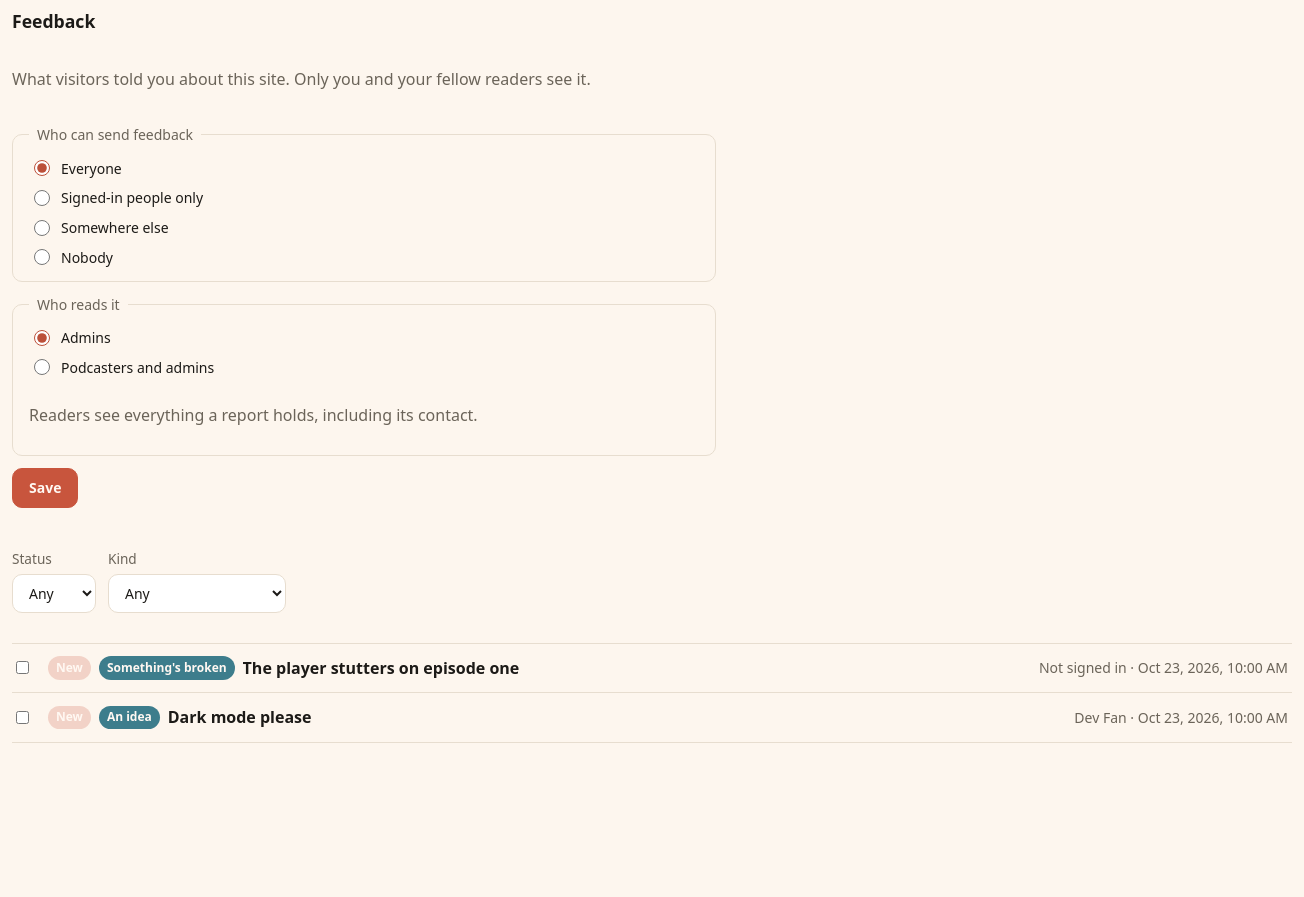
Test: AdminFeedback › lists reports and opens one with its context and contact
The width and height of the screenshot is (1304, 897).
Check: the text "Not signed in" is shown, box 1039,658 -> 1127,677
Click the 2nd button at point(69, 668), box 44,652 -> 1292,684
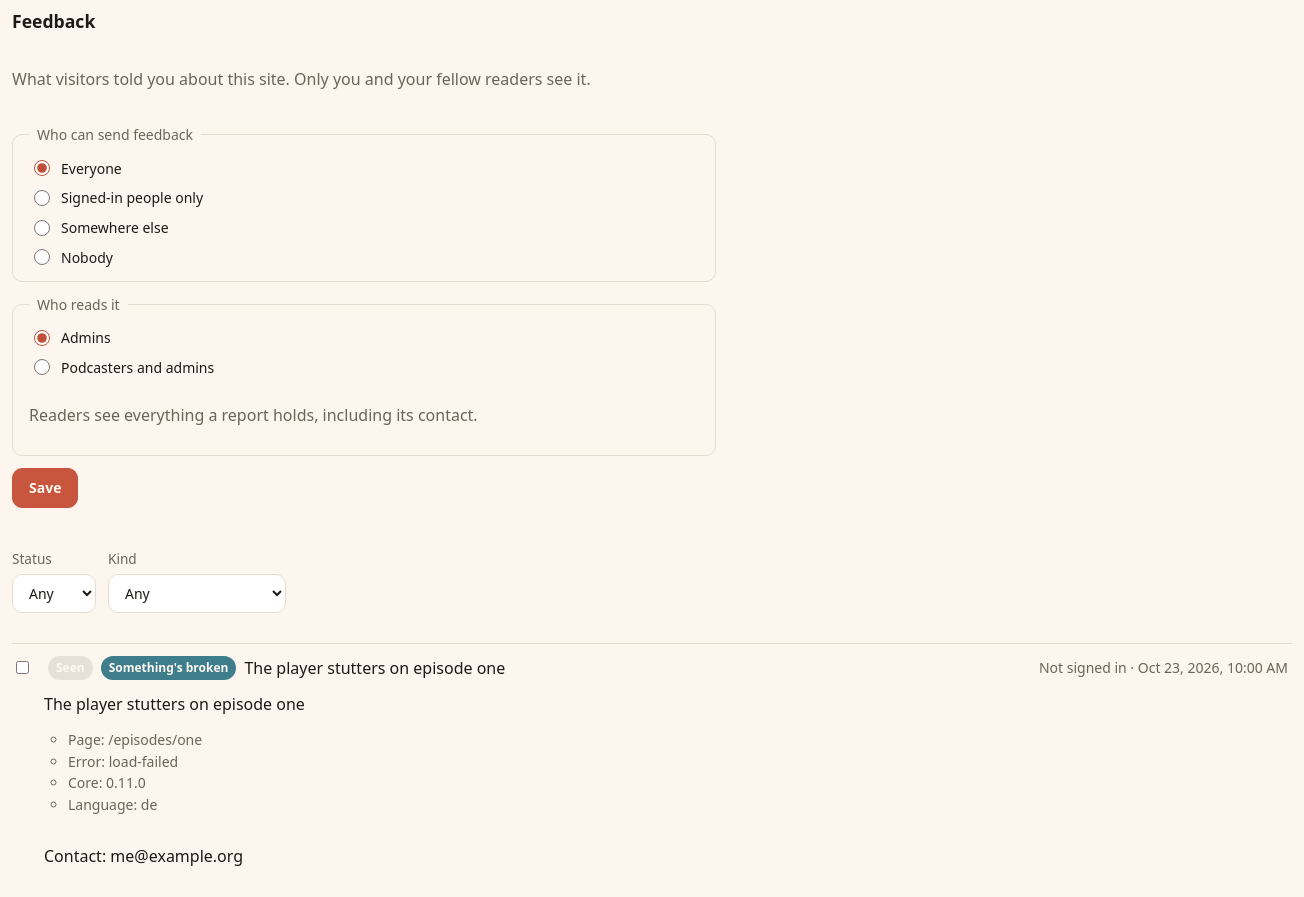
Check: the list item "Page: /episodes/one" is shown, box 68,730 -> 202,749
Check: the text "me@example.org" is shown, box 110,845 -> 243,867
Check: the text "Seen" is shown, box 48,656 -> 93,680
